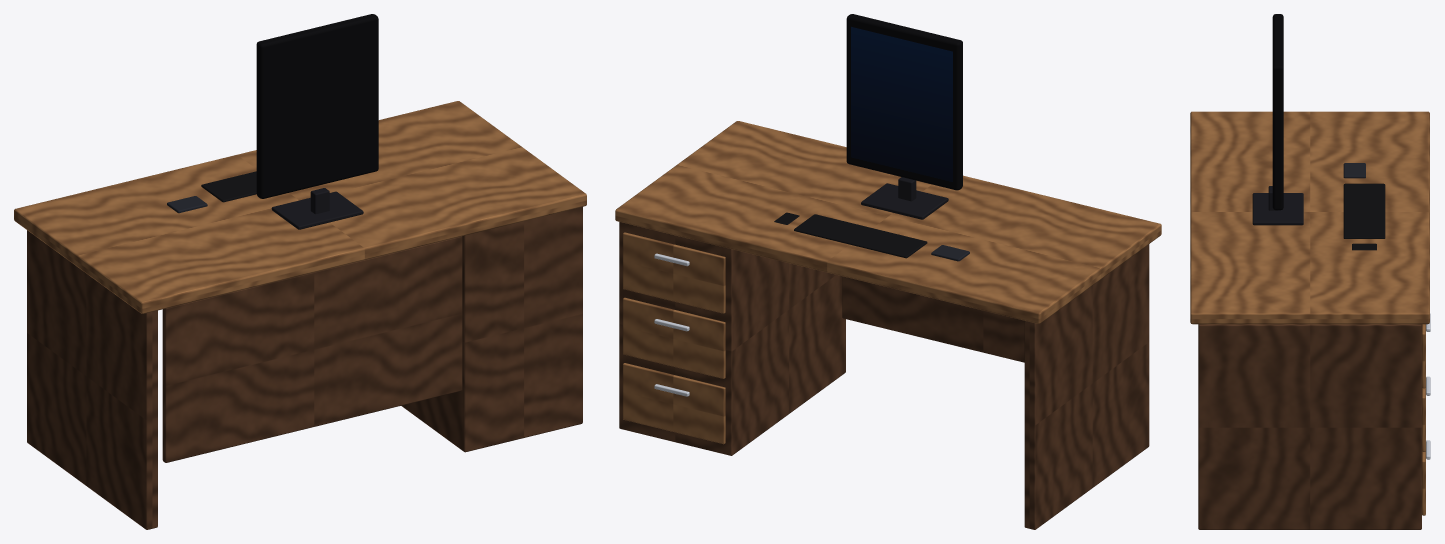
Rendered from BankOfficeDesk.obj.
3 renders of one model, left to right at view 1: azimuth 30°, elevation 25°; view 2: azimuth 150°, elevation 25°; view 3: azimuth 270°, elevation 25°, orthographic. The views are drawn at different scales.
Bounding box in the file's own units: 1.5 × 1.35 × 0.752.
Materials: 9 (4 with a texture image).
